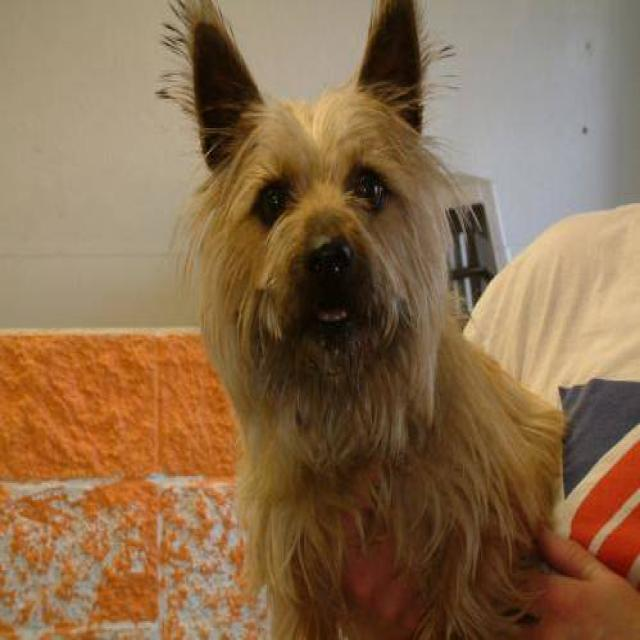dog: (154, 0, 571, 638)
